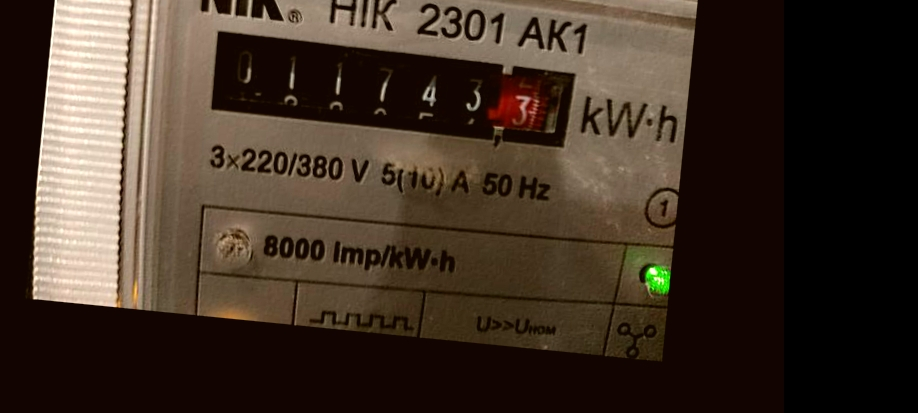0: (232, 47, 257, 88), (281, 51, 303, 94)
1: (328, 57, 348, 99)
3: (462, 73, 486, 118), (509, 91, 532, 130)
4: (417, 68, 441, 110)
7: (370, 61, 398, 107)
screen: (189, 16, 585, 161)
